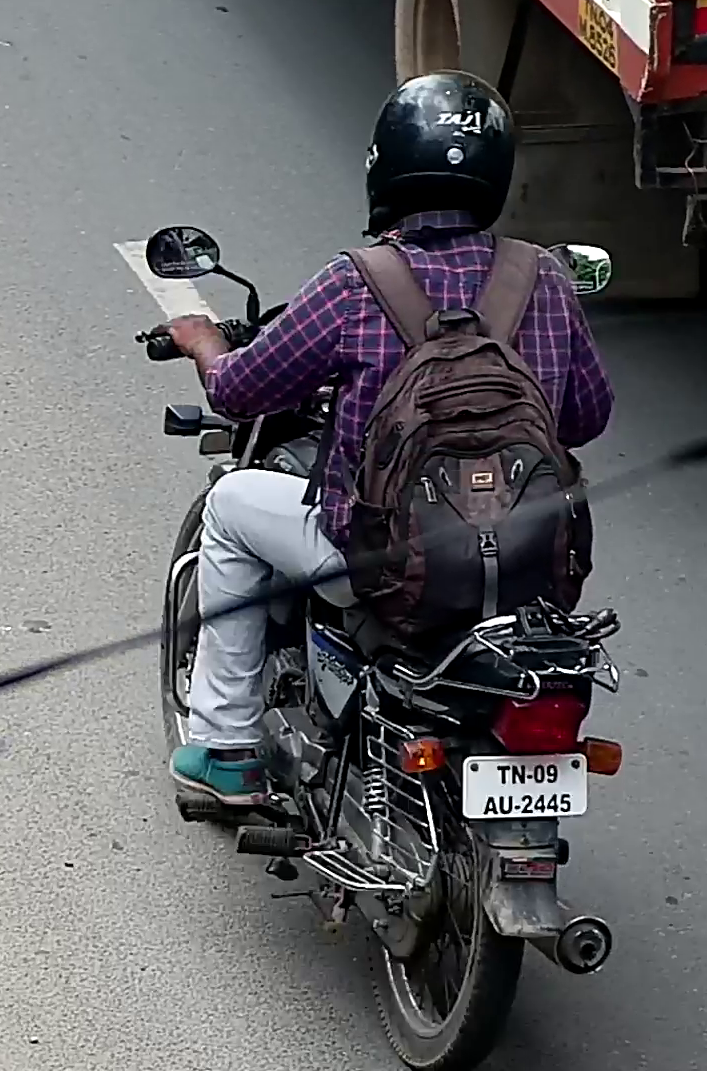-: (526, 774, 533, 780), (514, 805, 521, 810)
0: (534, 764, 545, 784)
2: (522, 794, 534, 814)
4: (547, 793, 559, 813), (534, 794, 546, 813)
5: (559, 793, 571, 813)
9: (546, 764, 558, 784)
A: (483, 796, 498, 815)
N: (512, 765, 526, 784)
P16: (458, 752, 590, 820)
T: (497, 765, 511, 785)
U: (498, 795, 513, 814)
